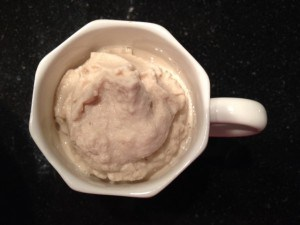ice-cream: (59, 49, 191, 183)
